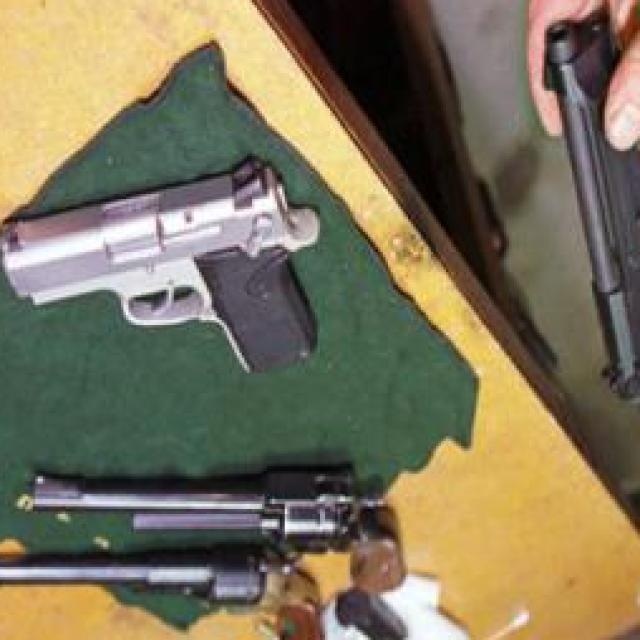pistol: (5, 134, 329, 406), (524, 0, 640, 449), (23, 470, 404, 605), (0, 552, 325, 640)
